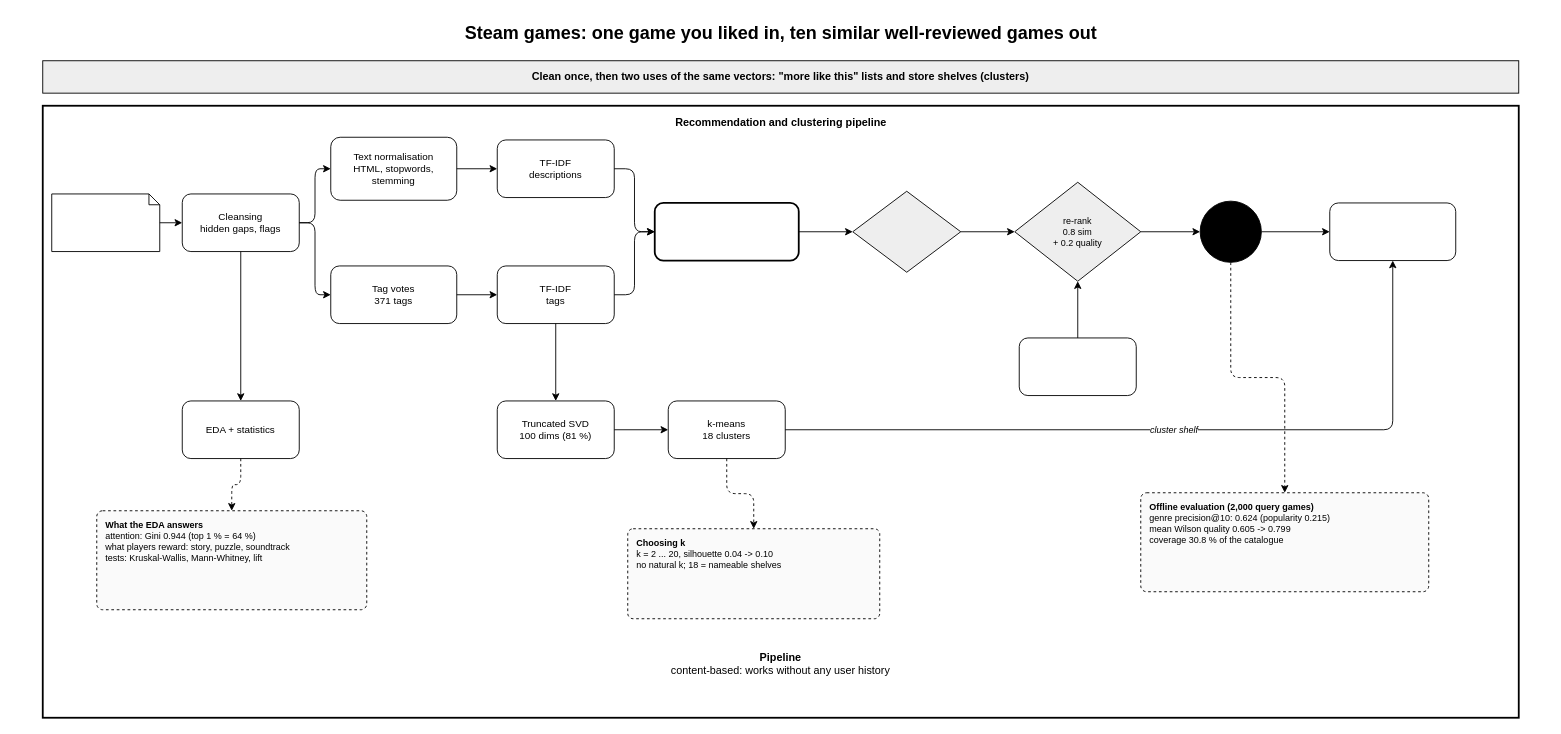
Image size: 1561x734. Some labels were removed from this diagram. The centre of each missing label's shape, as x and y in pixels:
"cosine top 100" belongs at point 906,231.
"Gradio app table + cards" belongs at point 1392,231.
"Hybrid vector 50 % tags + 50 % text" belongs at point 726,231.
"steam.csv 27,075 games" belongs at point 105,222.
"top 10" belongs at point 1230,231.
"Wilson score review quality" belongs at point 1077,366.
